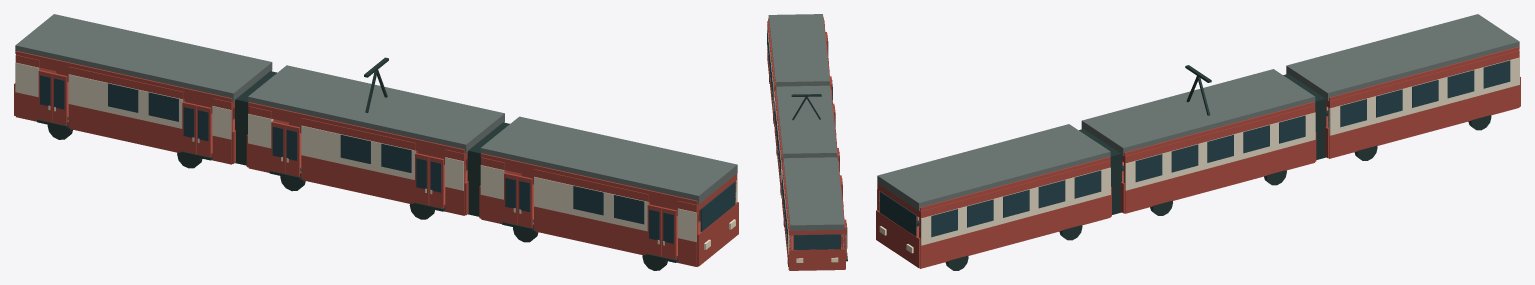
File: tram-long.glb
3 views of the same model, side by side, from view 1: azimuth 30°, elevation 25°; view 2: azimuth 150°, elevation 25°; view 3: azimuth 270°, elevation 25° (orthographic). The views are drawn at different scales.
Visible parts, largest first — view 1: Сочленённый, Правая раздвижная дверь (×12); view 2: Сочленённый, Правая раздвижная дверь; view 3: Сочленённый.
Part boxes in pixels (<box>): Сочленённый: <box>14,14,738,270</box>; Правая раздвижная дверь (×12): <box>38,70,676,259</box>; Сочленённый: <box>767,14,847,270</box>; Правая раздвижная дверь: <box>845,224,847,259</box>; Сочленённый: <box>876,14,1520,270</box>.
Bounding box in the file's own units: 18.03 × 5 × 25.8.
